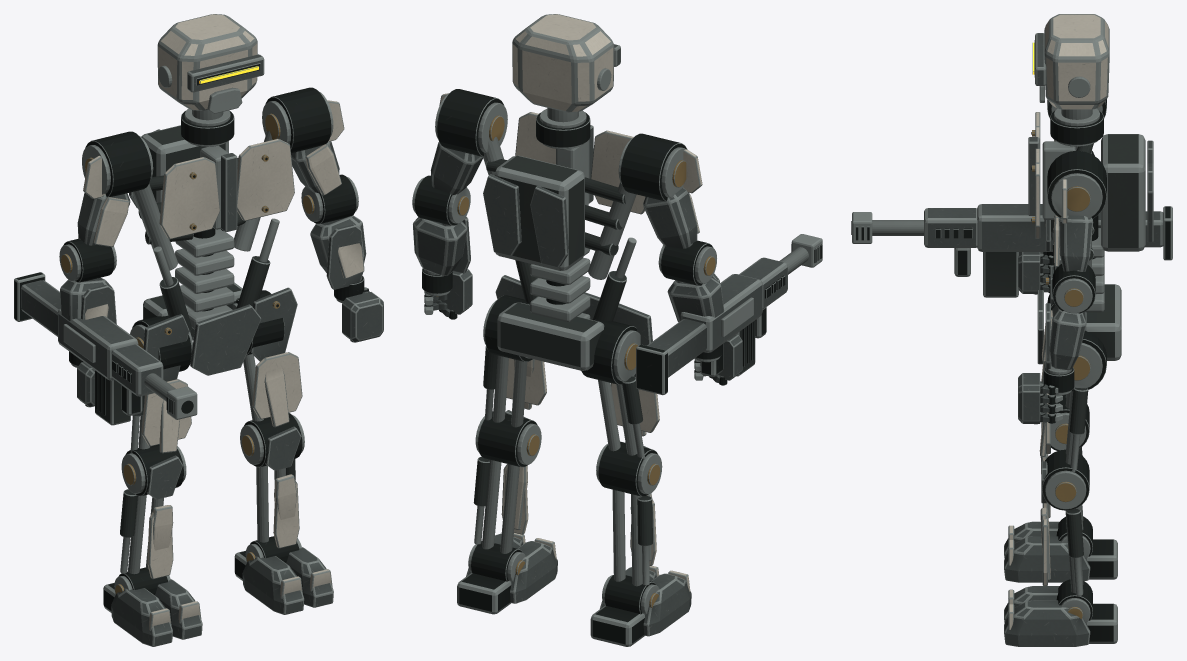
Rendered from ranged-t1-sentinel.glb.
3 renders of one model, left to right at view 1: azimuth 30°, elevation 25°; view 2: azimuth 150°, elevation 25°; view 3: azimuth 270°, elevation 25°, orthographic.
Visible parts, largest first — view 1: pelvis__metal, chest__clay, head__clay, chest__metal, pelvis__clay, weaponR__clay, weaponR__metal, ankleR__clay, ankleL__clay, kneeR__metal, shoulderL__metal, shoulderR__metal (+17 smaller); view 2: pelvis__metal, chest__metal, chest__clay, head__clay, kneeL__metal, kneeR__metal, weaponR__clay, weaponR__metal, shoulderL__metal, shoulderR__metal, ankleL__metal, ankleR__metal (+18 smaller); view 3: chest__metal, head__clay, weaponR__clay, weaponR__metal, pelvis__metal, ankleL__clay, kneeL__metal, ankleR__clay, shoulderL__metal, elbowL__clay, shoulderL__clay, ankleL__metal (+12 smaller).
Boxes of the visible parts, bbox=[...] form: pelvis__metal: bbox=[130, 218, 284, 371]; chest__clay: bbox=[129, 129, 294, 239]; head__clay: bbox=[157, 14, 264, 110]; chest__metal: bbox=[132, 108, 272, 270]; pelvis__clay: bbox=[143, 287, 297, 381]; weaponR__clay: bbox=[21, 280, 163, 396]; weaponR__metal: bbox=[14, 272, 197, 425]; ankleR__clay: bbox=[111, 579, 202, 646]; ankleL__clay: bbox=[242, 547, 333, 614]; kneeR__metal: bbox=[120, 444, 186, 574]; shoulderL__metal: bbox=[262, 87, 333, 153]; shoulderR__metal: bbox=[79, 131, 153, 239]; pelvis__metal: bbox=[483, 237, 640, 384]; chest__metal: bbox=[483, 109, 636, 279]; chest__clay: bbox=[483, 112, 645, 267]; head__clay: bbox=[512, 14, 620, 112]; kneeL__metal: bbox=[473, 411, 541, 553]; kneeR__metal: bbox=[596, 441, 662, 586]; weaponR__clay: bbox=[647, 257, 787, 377]; weaponR__metal: bbox=[636, 234, 822, 395]; shoulderL__metal: bbox=[435, 89, 507, 156]; shoulderR__metal: bbox=[618, 133, 692, 245]; ankleL__metal: bbox=[457, 541, 525, 614]; ankleR__metal: bbox=[590, 575, 659, 646]; chest__metal: bbox=[1031, 108, 1145, 268]; head__clay: bbox=[1035, 14, 1109, 109]; weaponR__clay: bbox=[924, 204, 1163, 251]; weaponR__metal: bbox=[851, 206, 1172, 297]; pelvis__metal: bbox=[1045, 215, 1121, 391]; ankleL__clay: bbox=[1004, 586, 1090, 646]; kneeL__metal: bbox=[1042, 449, 1089, 595]; ankleR__clay: bbox=[1004, 521, 1090, 582]; shoulderL__metal: bbox=[1047, 150, 1106, 271]; elbowL__clay: bbox=[1042, 303, 1086, 371]; shoulderL__clay: bbox=[1053, 179, 1093, 271]; ankleL__metal: bbox=[1056, 579, 1117, 643].
Size of the model in its own units: 2.33 by 4.27 by 2.16.
Materials: 11 (10 with a texture image).
